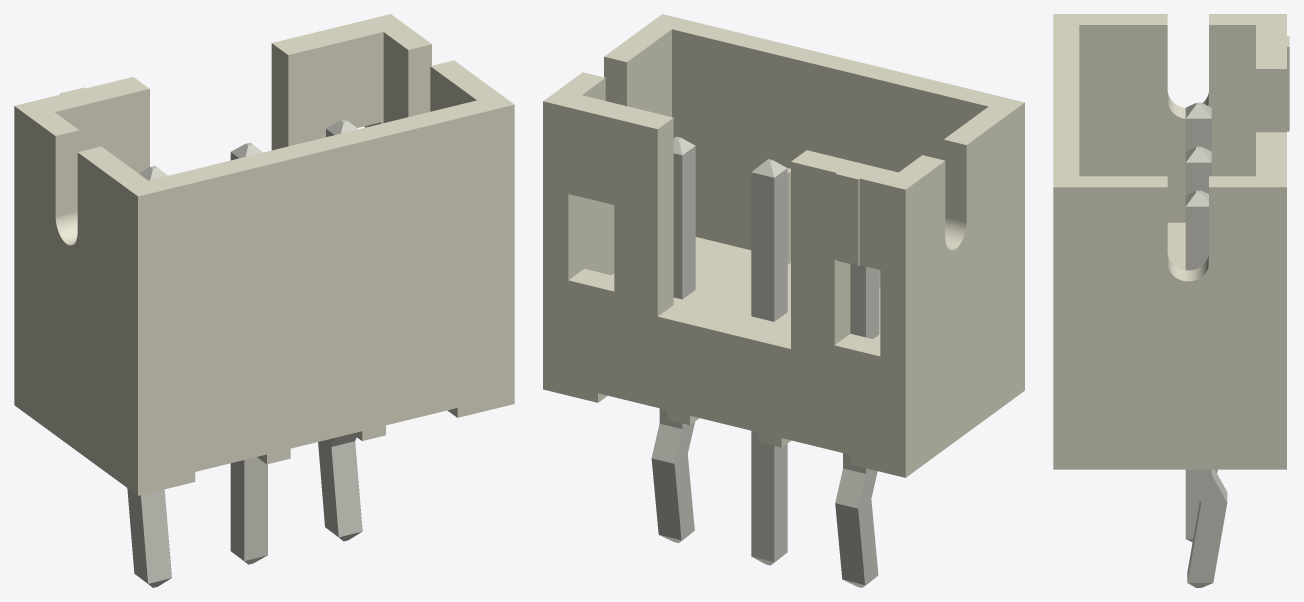
The model's file is jst_ph_b3b_ph_k_1x03_p2_00mm_vertical.glb.
3 views of the same model, side by side, from view 1: azimuth 30°, elevation 25°; view 2: azimuth 150°, elevation 25°; view 3: azimuth 270°, elevation 25° (orthographic). The views are drawn at different scales.
Visible parts, largest first — view 1: conn_jst_ph_3p, pin_2, pin_3, pin_1; view 2: conn_jst_ph_3p, pin_2, pin_3, pin_1; view 3: conn_jst_ph_3p, pin_3, pin_2.
Boxes of the visible parts, box(x1,y1,x2,y2) form: conn_jst_ph_3p: box(14, 14, 514, 495); pin_2: box(230, 457, 267, 564); pin_3: box(318, 434, 362, 541); pin_1: box(127, 488, 171, 587); conn_jst_ph_3p: box(543, 14, 1024, 477); pin_2: box(751, 430, 787, 565); pin_3: box(651, 408, 694, 542); pin_1: box(835, 453, 878, 587); conn_jst_ph_3p: box(1053, 14, 1289, 469); pin_3: box(1185, 469, 1227, 587); pin_2: box(1185, 475, 1199, 542).
Size of the model in its own units: 0.0079 by 0.0094 by 0.00455.
